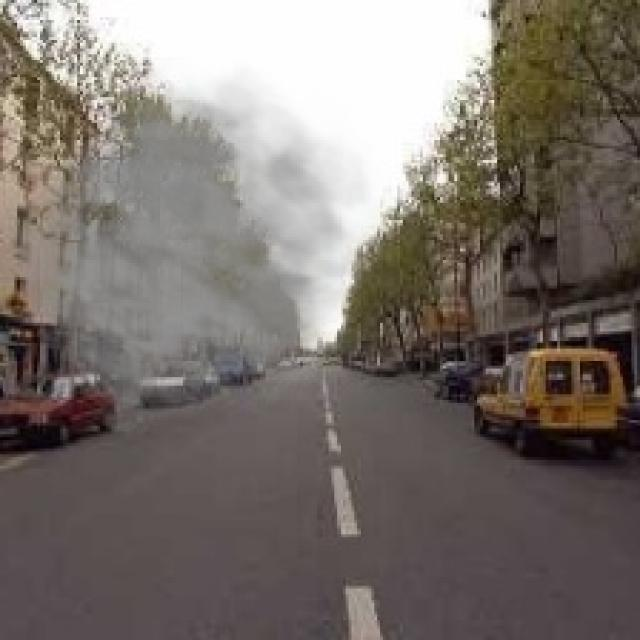Smoke: (11, 57, 392, 432)
